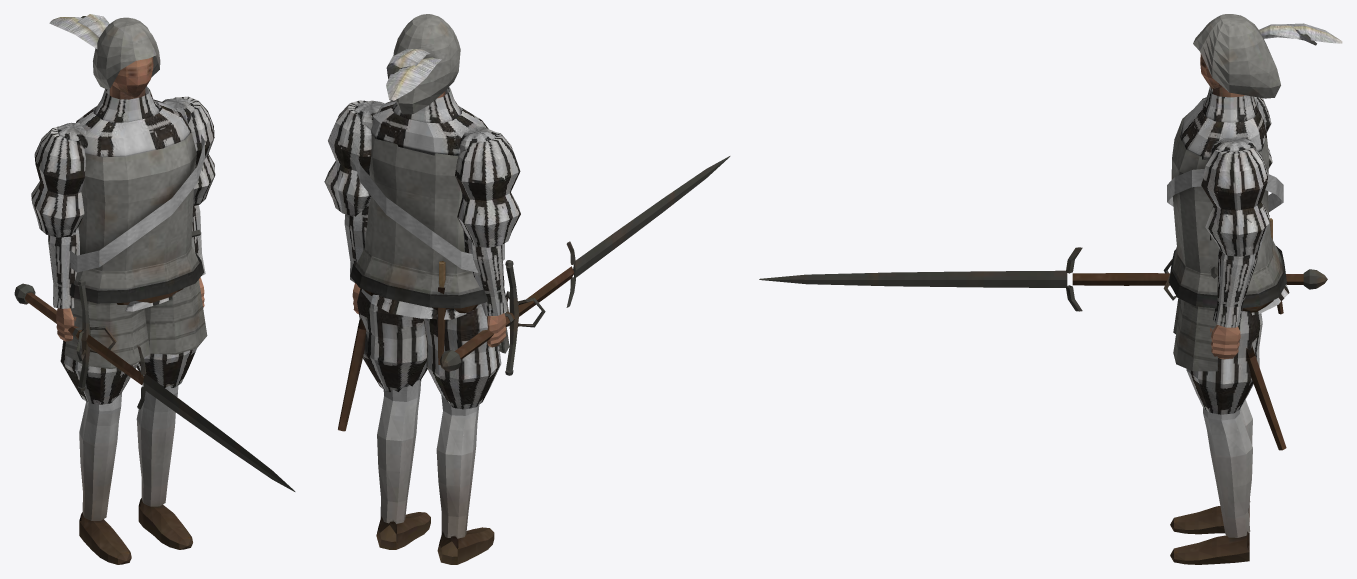
File: greatswords.glb
3 renders of one model, left to right at view 1: azimuth 30°, elevation 25°; view 2: azimuth 150°, elevation 25°; view 3: azimuth 270°, elevation 25°, orthographic. The views are drawn at different scales.
Parts seen in each view (by area): view 1: greatswords_LOD0; view 2: greatswords_LOD0; view 3: greatswords_LOD0.
Boxes of the visible parts, left/top/right/bottom form: greatswords_LOD0: left=14, top=14, right=295, bottom=564; greatswords_LOD0: left=324, top=14, right=730, bottom=564; greatswords_LOD0: left=759, top=14, right=1342, bottom=564.
Size of what is drawn, in the model's own units: 0.6456 by 1.77 by 1.77.
1 material, 1 textured.
